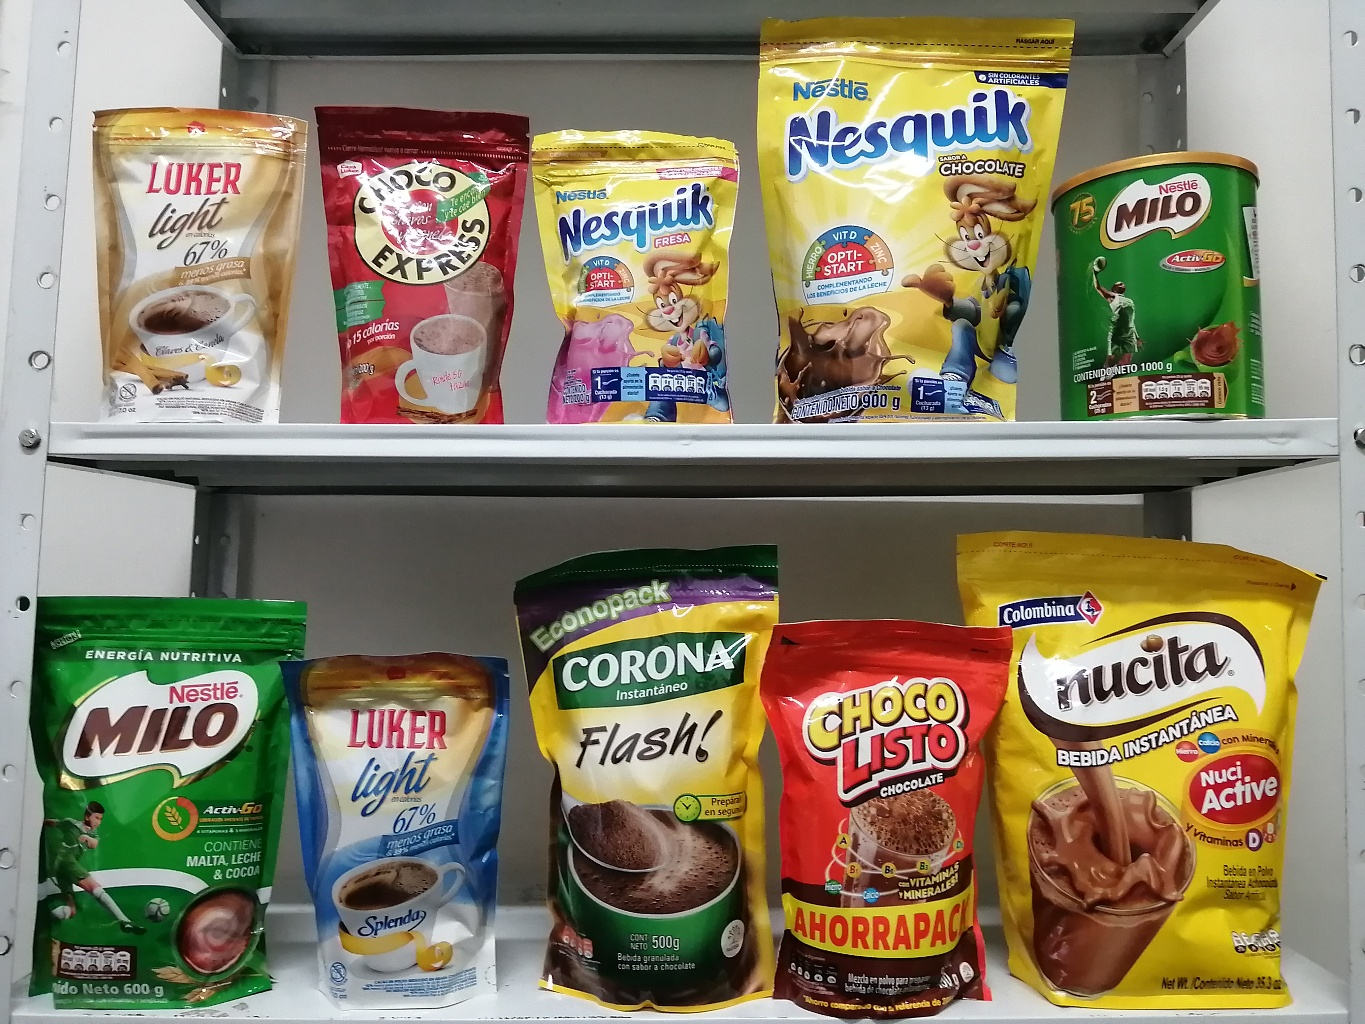COL0170103DYP1,500: (91, 543, 409, 958)
COL0170103DYP36000: (292, 144, 567, 520)
COL0170104DYP20000: (389, 692, 580, 945)
COL0170203DYP10000: (589, 738, 739, 936)
COL0170205DYP50000: (551, 167, 768, 504)
